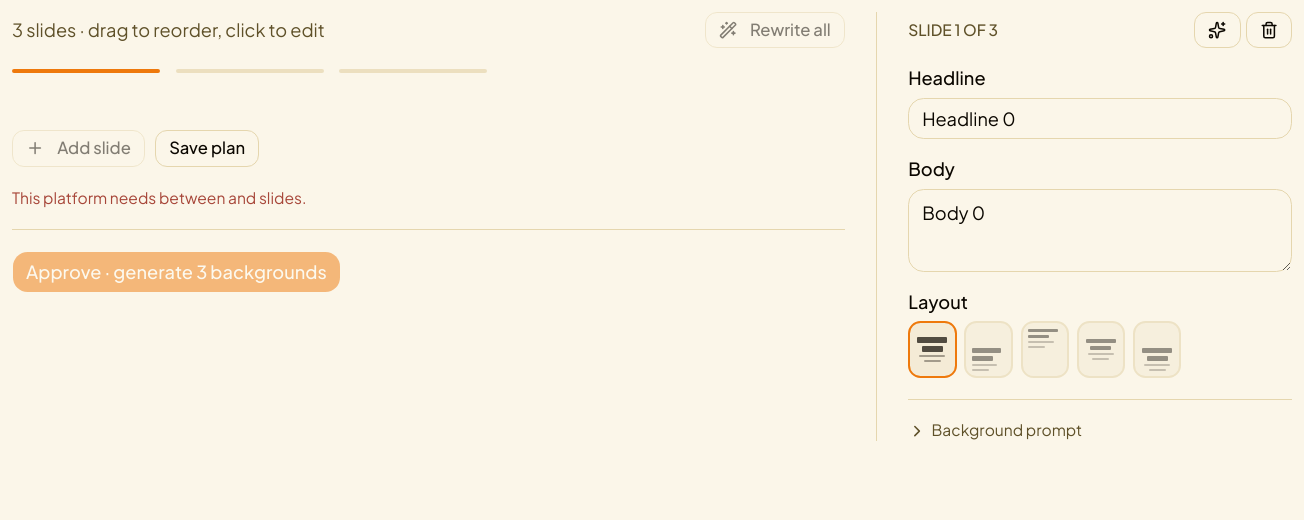
ScenarioEditor › opens the first slide in the inspector and follows the selection
Expected: the field labelled "Headline" holds "Headline 0", [908,98,1292,139]
Click the 3rd button with test id "scenario-slide" at (413, 71), box [339,69,487,73]
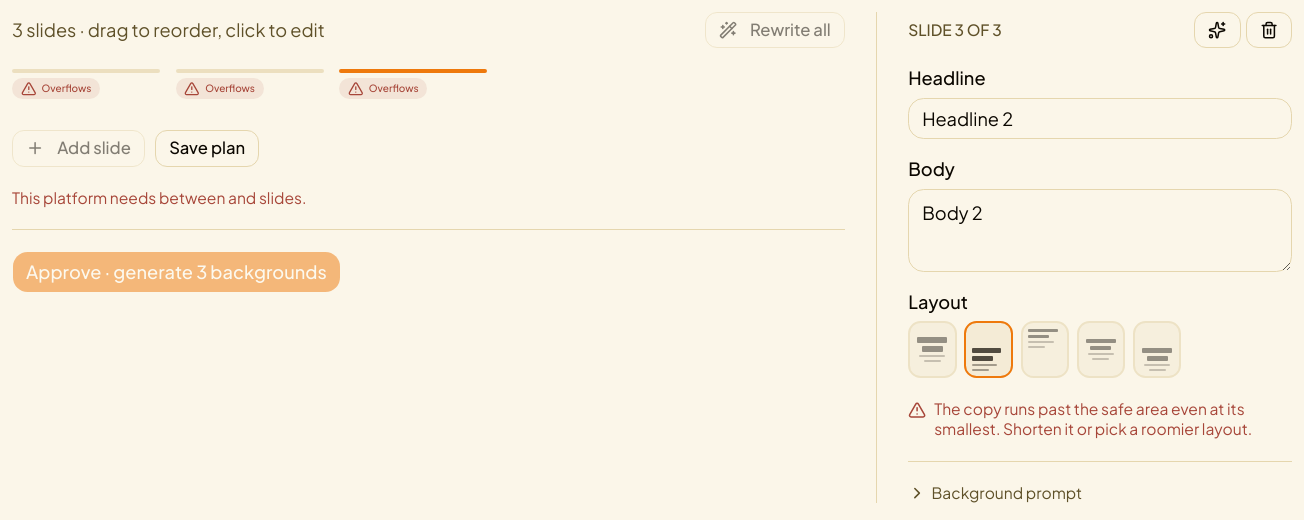
Expected: the field labelled "Headline" holds "Headline 2", [908,98,1292,139]
Expected: the text "Slide 3 of 3" is shown, [908,20,1002,41]
